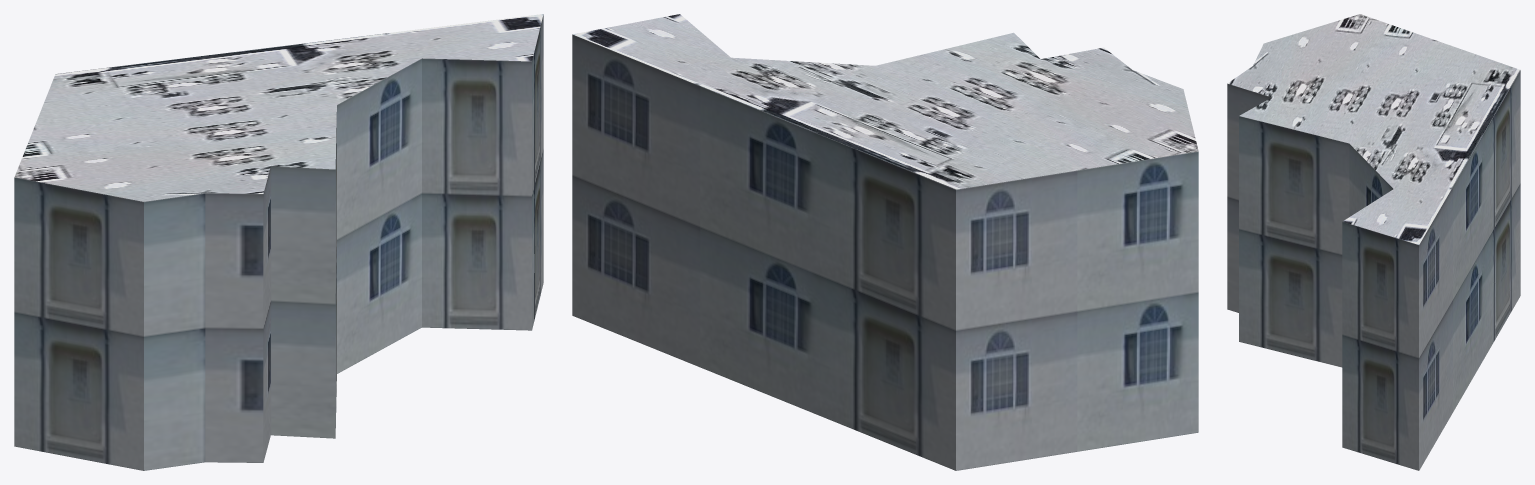
The model's file is ResTex__3475.fbx.
3 renders of one model, left to right at view 1: azimuth 30°, elevation 25°; view 2: azimuth 150°, elevation 25°; view 3: azimuth 270°, elevation 25°, orthographic. The views are drawn at different scales.
Parts seen in each view (by area): view 1: CityEngineMaterial_17_m, CityEngineMaterial_4_m; view 2: CityEngineMaterial_17_m, CityEngineMaterial_4_m; view 3: CityEngineMaterial_17_m, CityEngineMaterial_4_m.
Boxes of the visible parts, bbox=[...] form: CityEngineMaterial_17_m: bbox=[14, 14, 543, 470]; CityEngineMaterial_4_m: bbox=[14, 14, 543, 201]; CityEngineMaterial_17_m: bbox=[572, 34, 1198, 470]; CityEngineMaterial_4_m: bbox=[573, 14, 1198, 189]; CityEngineMaterial_17_m: bbox=[1227, 70, 1520, 470]; CityEngineMaterial_4_m: bbox=[1227, 14, 1520, 244].
Bounding box in the file's own units: 13.16 × 6 × 7.06.
Materials: 2 (2 with a texture image).
